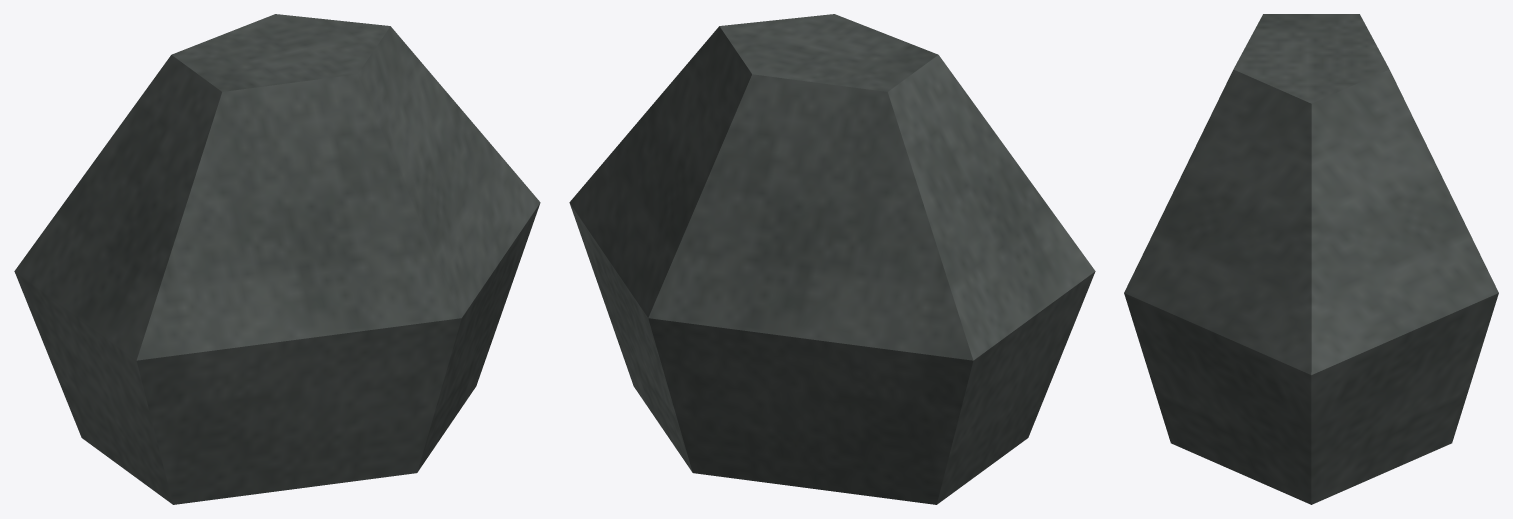
File: ENV_F_Rock_0.fbx
3 views of the same model, side by side, from view 1: azimuth 30°, elevation 25°; view 2: azimuth 150°, elevation 25°; view 3: azimuth 270°, elevation 25° (orthographic). The views are drawn at different scales.
Parts seen in each view (by area): view 1: PL_ENV_F_Rock_0; view 2: PL_ENV_F_Rock_0; view 3: PL_ENV_F_Rock_0.
Part boxes in pixels (box(x1,y1,x2,y2)): PL_ENV_F_Rock_0: box(14, 14, 540, 504); PL_ENV_F_Rock_0: box(569, 14, 1095, 504); PL_ENV_F_Rock_0: box(1124, 14, 1498, 504).
Size of the model in its own units: 217 by 170 by 160.
Materials: 1 (1 with a texture image).
